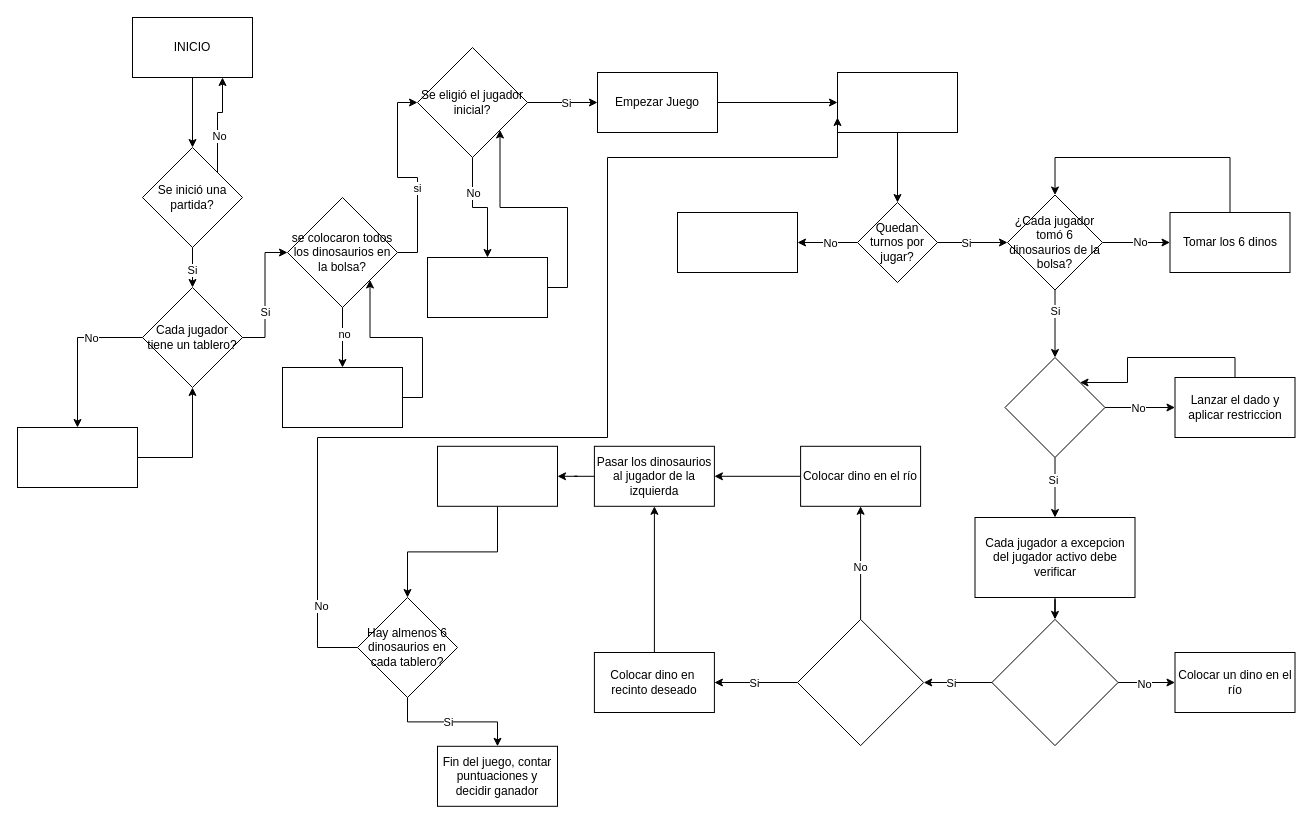
This 1313x824 diagram has some shape labels left out. Each missing label, with the centre of its shape:
Asignarle a cada jugador un tablero: the point at 77,457
Cambiar jugador activo → Siguiente turno.: the point at 497,475
Colocar los 60 dinosaurios en la bolsa: the point at 342,397
Elegirlo al azar: the point at 487,287
Puede colocar dinosaurios? Respetando la restricción: the point at 1054,682
Ronda 1: the point at 897,102
Ronda 2: the point at 737,242
Se cumplen las reglas del recinto?: the point at 860,682
¿El jugador activo lanzó el dado?: the point at 1054,407
